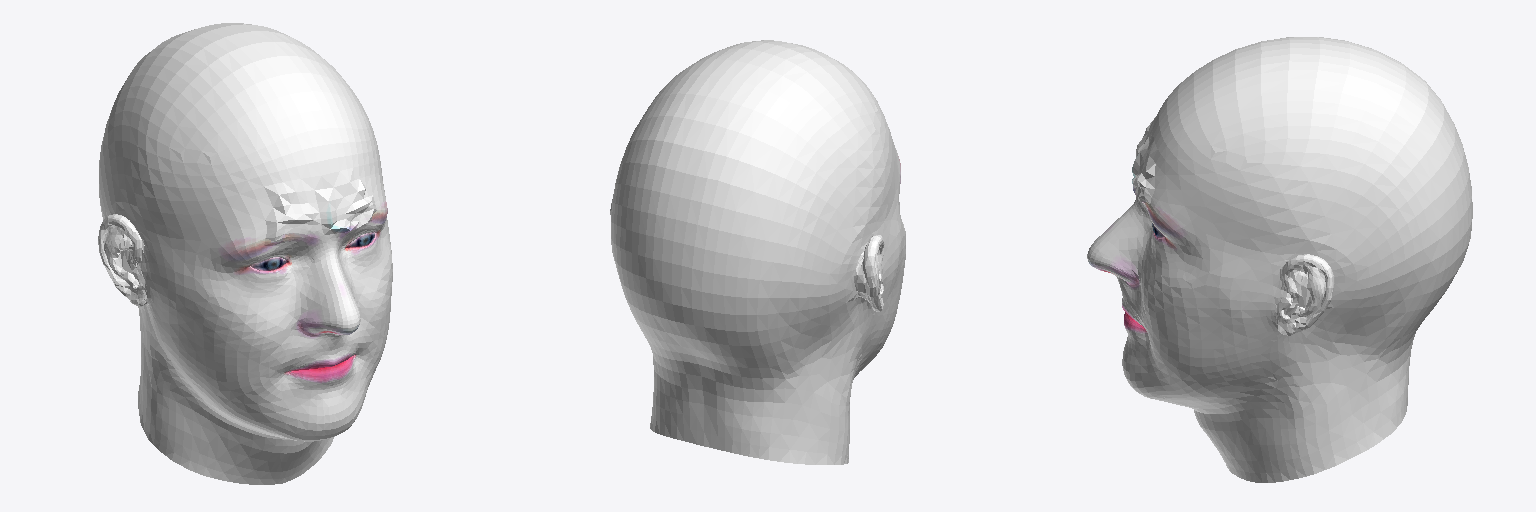
3 renders of one model, left to right at view 1: azimuth 30°, elevation 25°; view 2: azimuth 150°, elevation 25°; view 3: azimuth 270°, elevation 25°, orthographic.
Visible parts, largest first — view 1: HeadHires; view 2: HeadHires; view 3: HeadHires.
Boxes of the visible parts, <box> form: HeadHires: <box>98,23,392,484</box>; HeadHires: <box>610,40,905,464</box>; HeadHires: <box>1087,37,1472,482</box>.
Bounding box in the file's own units: 189 × 283 × 238.
Materials: 3 (1 with a texture image).